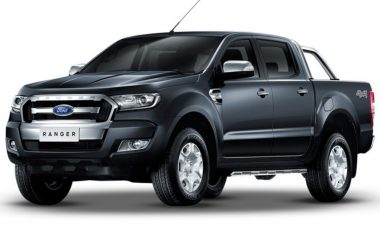pickup: (6, 29, 374, 208)
